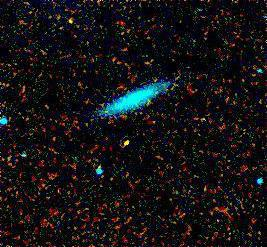star: (110, 125, 140, 155)
